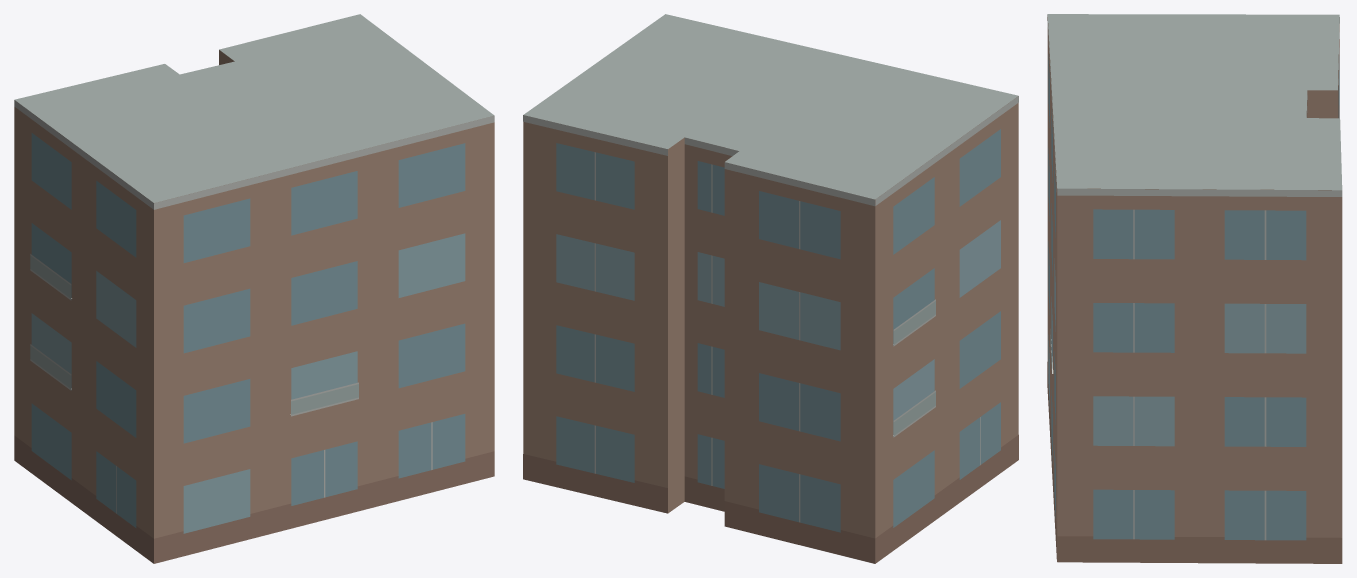
Rendered from survey-upis-32745603.glb.
3 renders of one model, left to right at view 1: azimuth 30°, elevation 25°; view 2: azimuth 150°, elevation 25°; view 3: azimuth 270°, elevation 25°, orthographic. The views are drawn at different scales.
Parts seen in each view (by area): view 1: survey-upis-32745603.tmp; view 2: survey-upis-32745603.tmp; view 3: survey-upis-32745603.tmp.
Boxes of the visible parts, x1=… form: survey-upis-32745603.tmp: x1=14, y1=14, x2=494, y2=563; survey-upis-32745603.tmp: x1=523, y1=14, x2=1018, y2=563; survey-upis-32745603.tmp: x1=1047, y1=14, x2=1342, y2=563.
Bounding box in the file's own units: 13.26 × 13.1 × 9.37.
